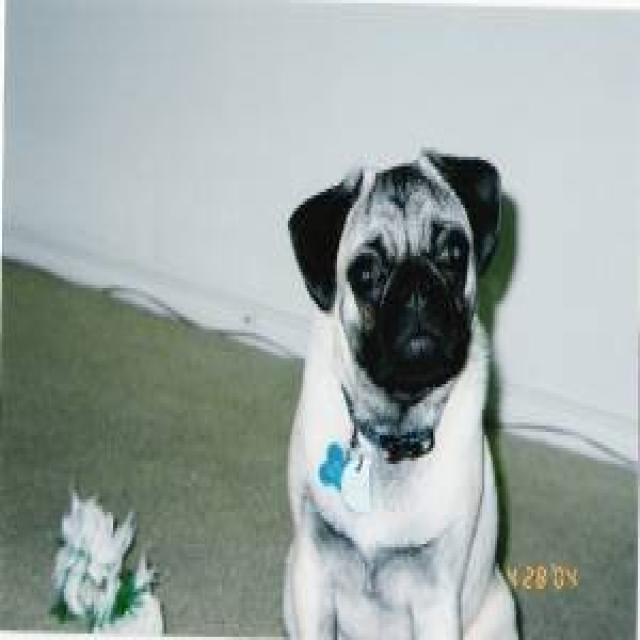dog-pug: (273, 138, 523, 634)
